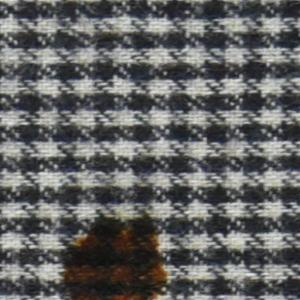Oil Stain: (60, 211, 171, 300)
